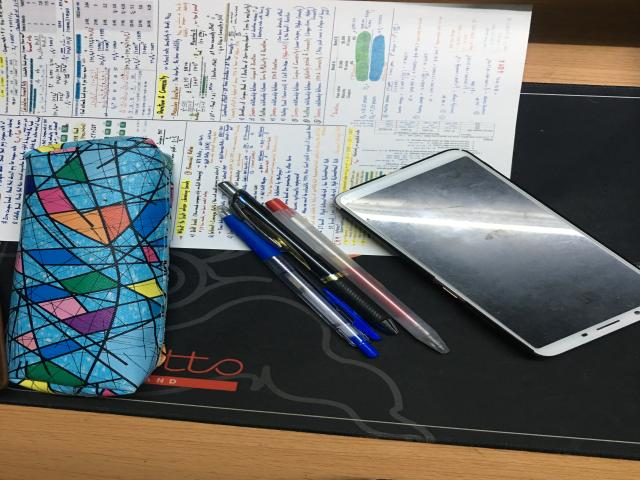Mobile phone: (335, 149, 640, 356)
Pen: (219, 183, 448, 360)
